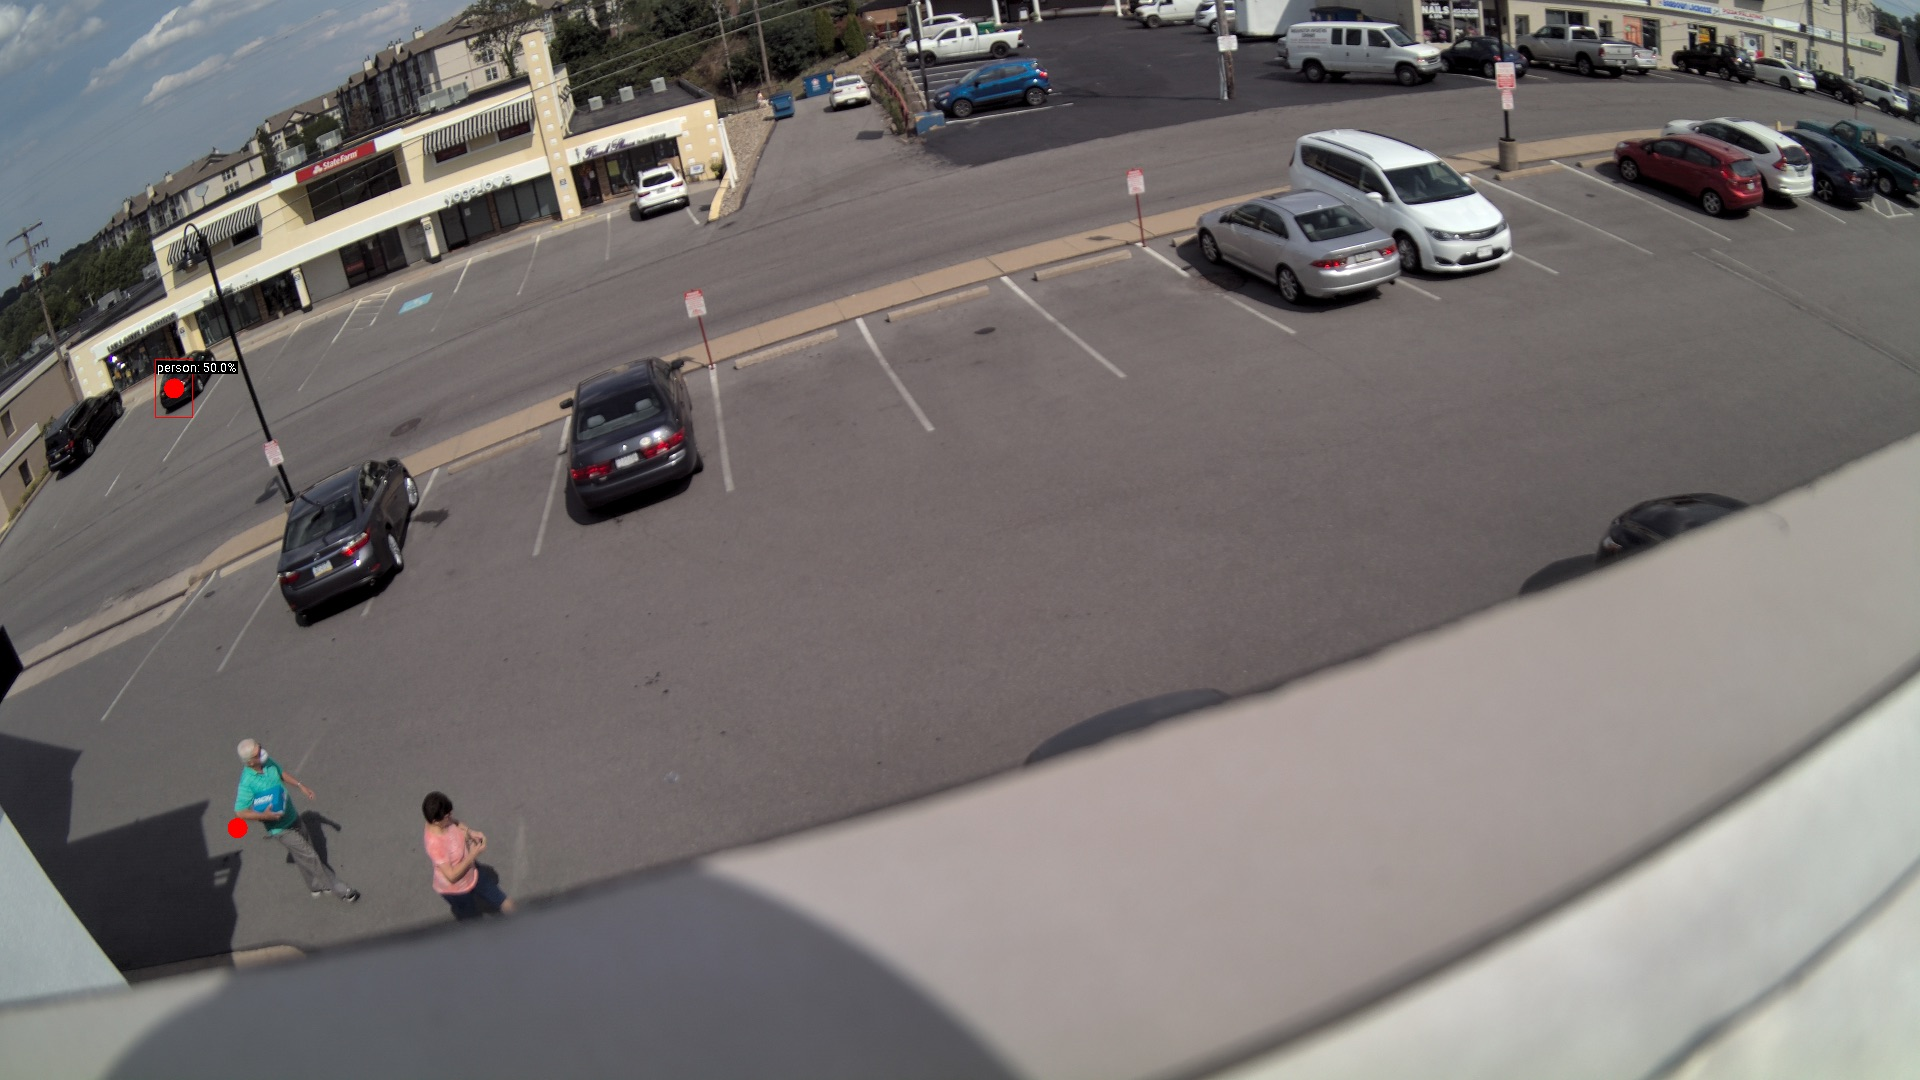person: (227, 738, 358, 911), (419, 792, 514, 927)
